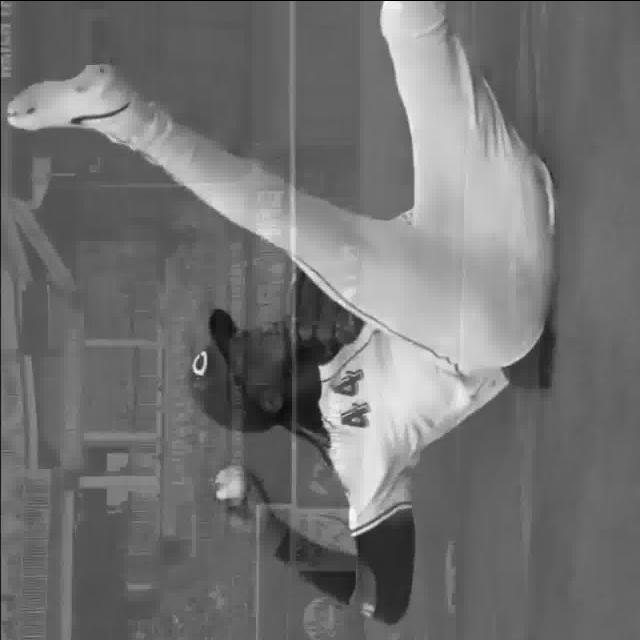baseball: (211, 466, 246, 500)
baseball_glove: (289, 263, 365, 362)
shoe: (3, 62, 117, 137)
